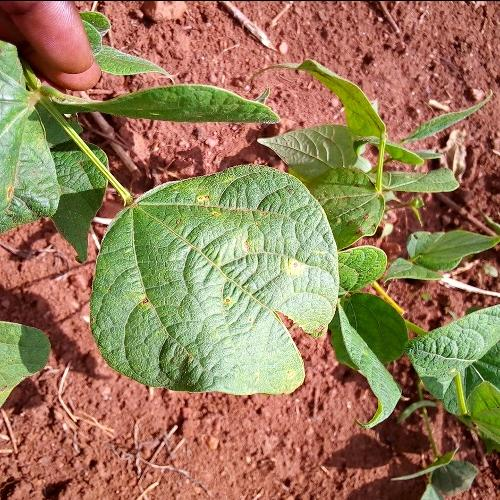hawar: (114, 175, 298, 362)
